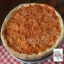pizza: (1, 4, 62, 56)
